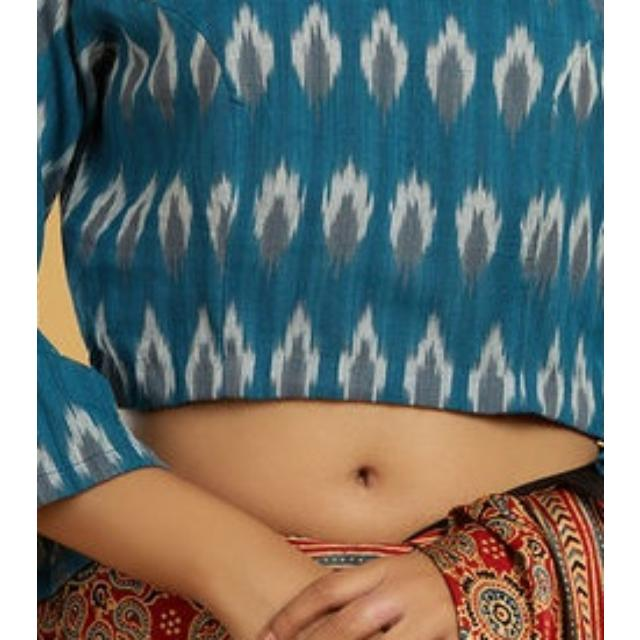cotton: (36, 0, 604, 404)
